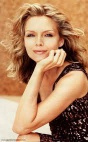female: (11, 3, 76, 73)
